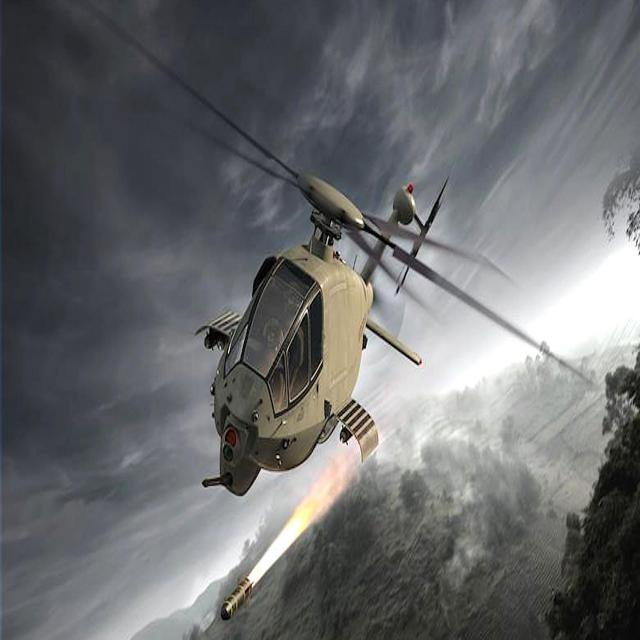MIL_HELO: (100, 0, 598, 517)
